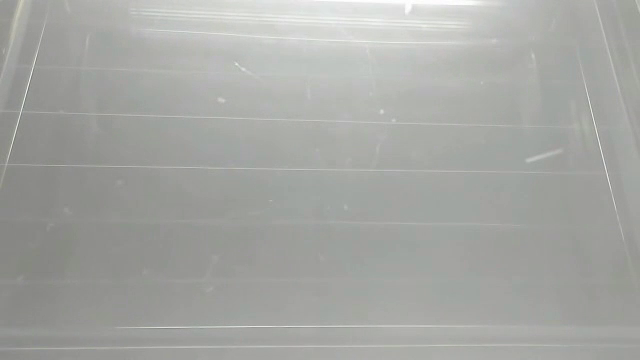alpha: (521, 144, 568, 167), (401, 1, 416, 16)
